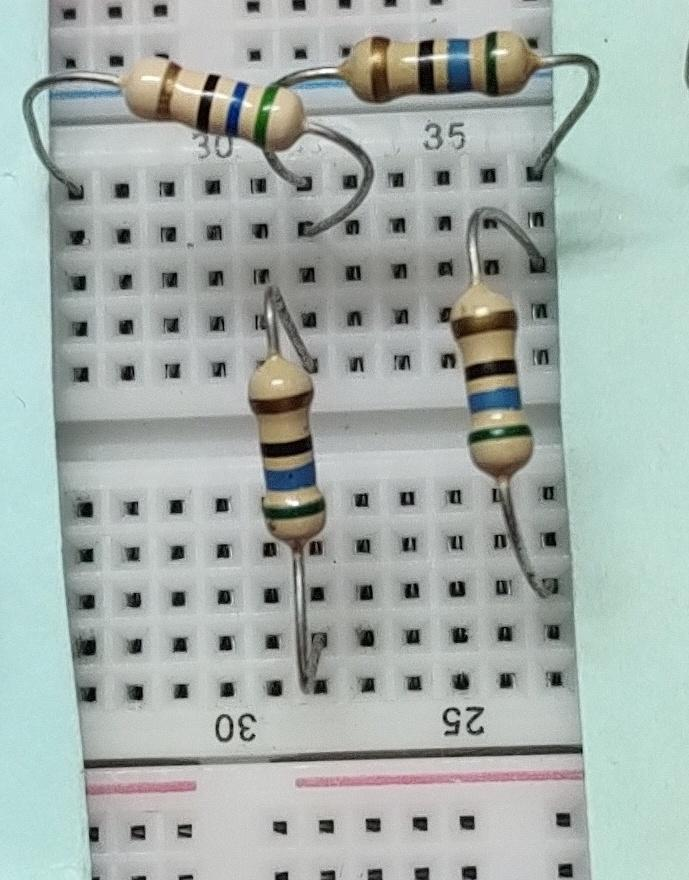resistor: (230, 340, 352, 550), (104, 43, 313, 164), (432, 270, 542, 487), (340, 25, 556, 106)
